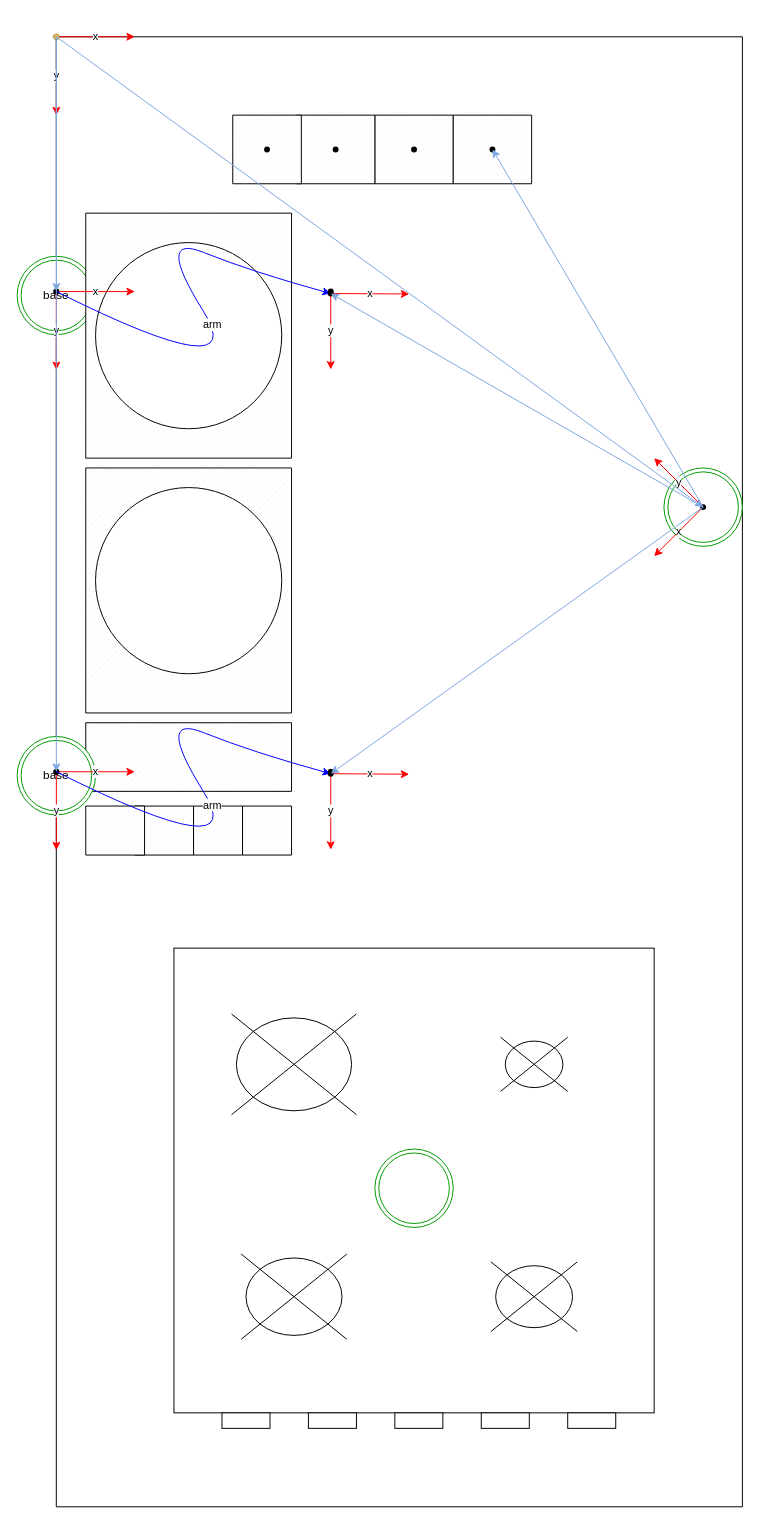
Some shapes in this 760 by 1525 pixel diagram are drawn without their labels. The box of each missing label's shape, as (x1, y1, x2, y2) in pixels:
camera: (663, 467, 742, 546)
sensor: (374, 1148, 453, 1227)
